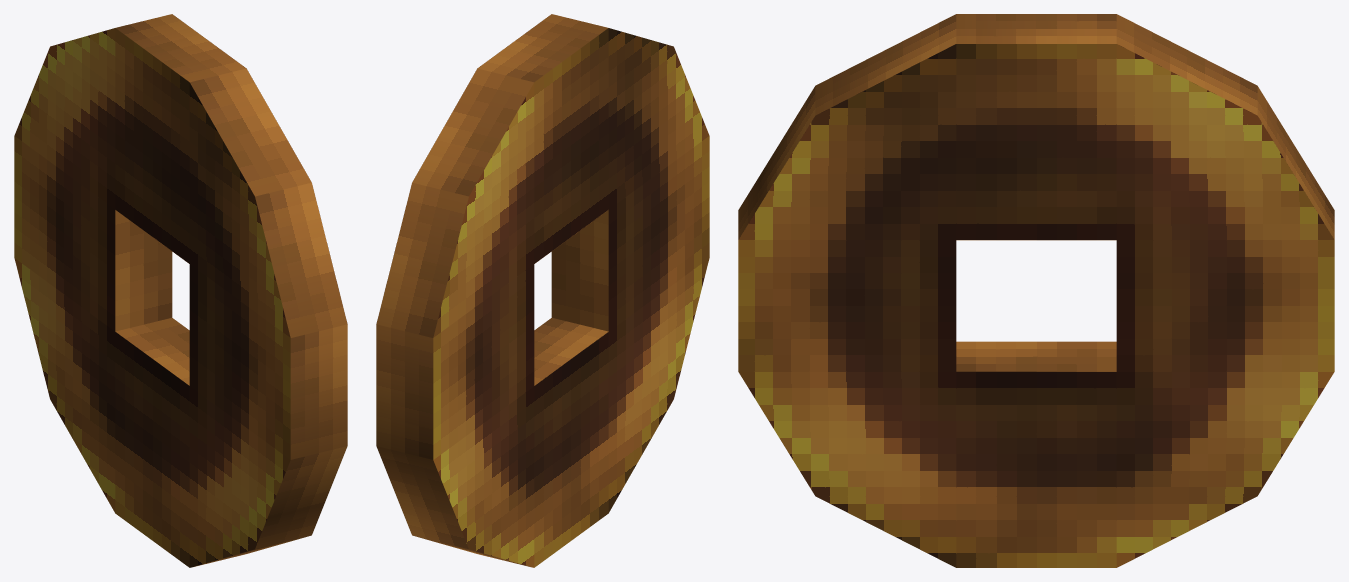
File: coin_1.fbx
3 renders of one model, left to right at view 1: azimuth 30°, elevation 25°; view 2: azimuth 150°, elevation 25°; view 3: azimuth 270°, elevation 25°, orthographic. The views are drawn at different scales.
Parts seen in each view (by area): view 1: coin_1; view 2: coin_1; view 3: coin_1.
Part boxes in pixels (x1,y1,x2,y2): coin_1: (14, 14, 347, 567); coin_1: (376, 14, 709, 567); coin_1: (738, 14, 1334, 567).
Bounding box in the file's own units: 1 × 8.15 × 8.41.
